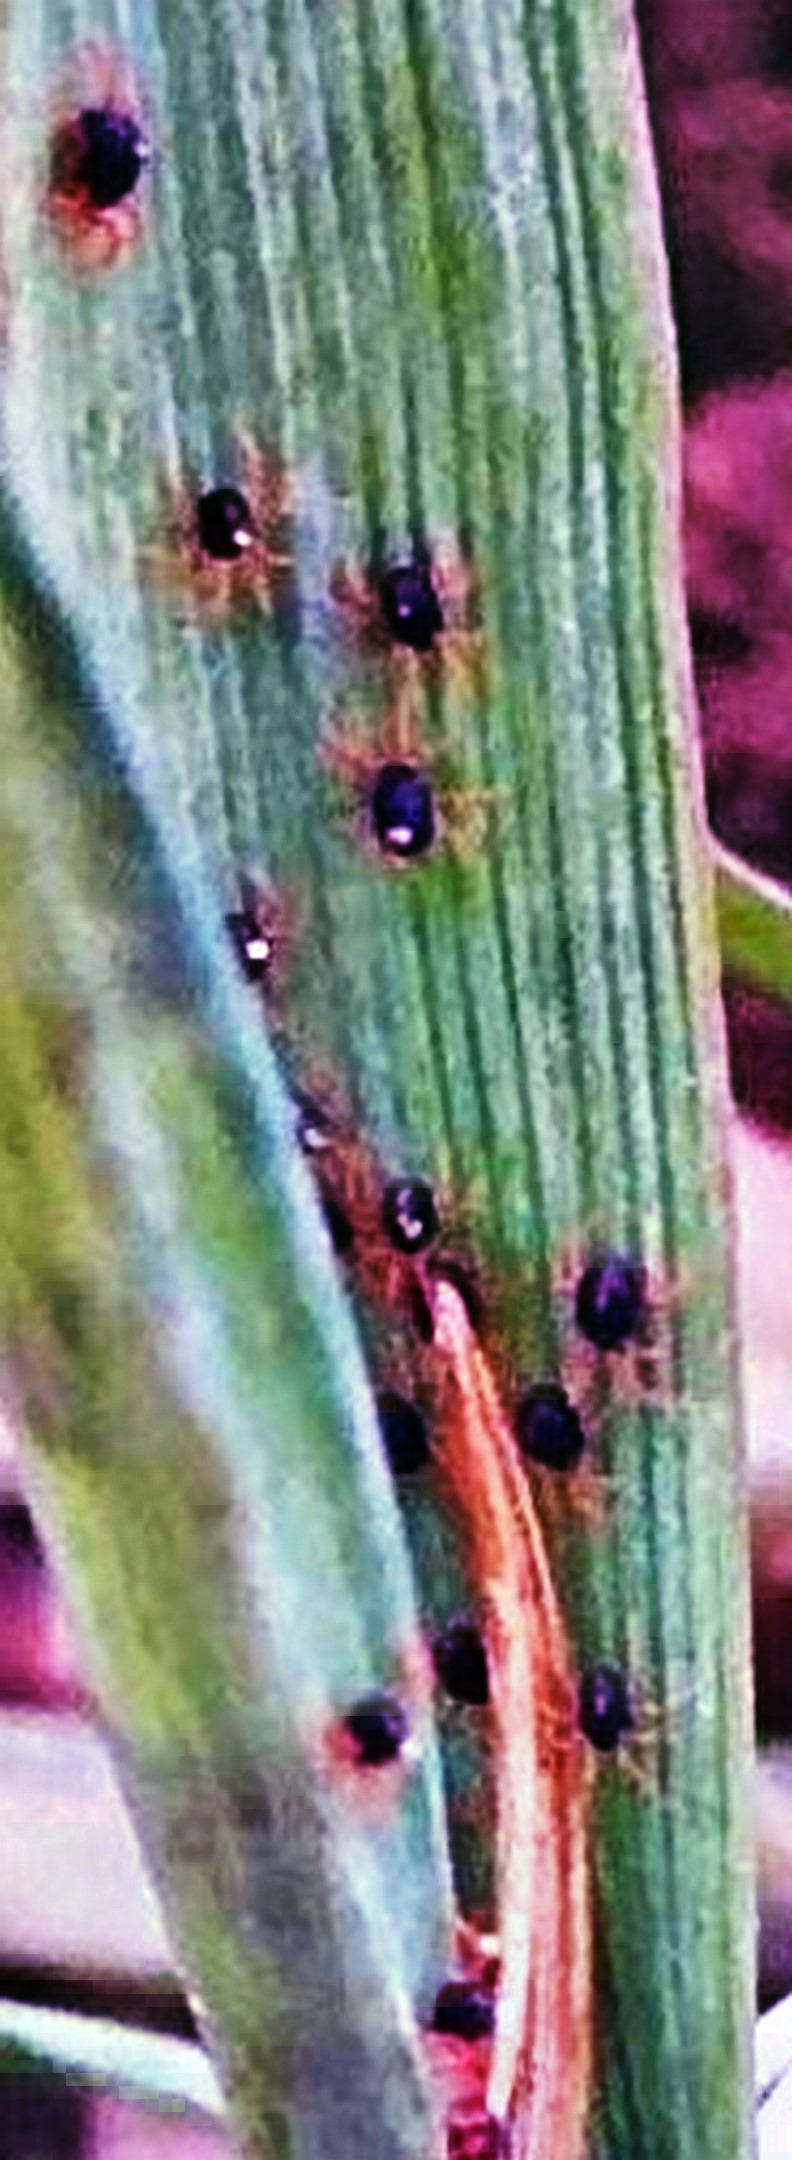Wheat Red Spider: (106, 433, 534, 904)
